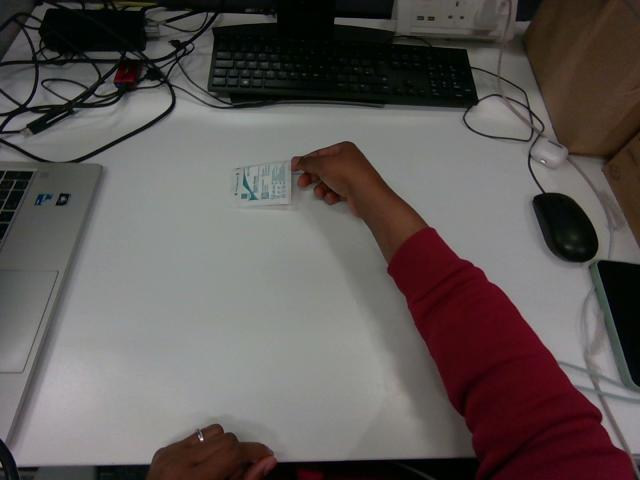gauze: (230, 161, 290, 206)
